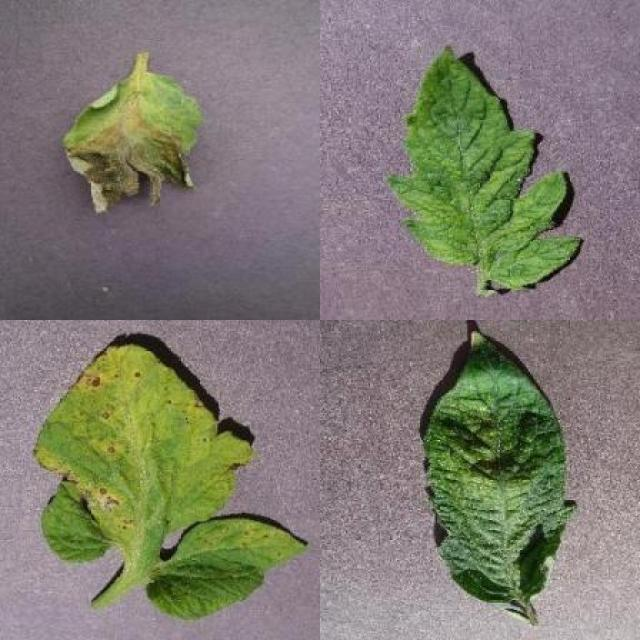Late Blight: (62, 67, 199, 212)
Mosaic Virus: (387, 45, 582, 288)
Septoria: (34, 342, 256, 561), (146, 514, 311, 620)
Spider Mites: (423, 329, 580, 607)
